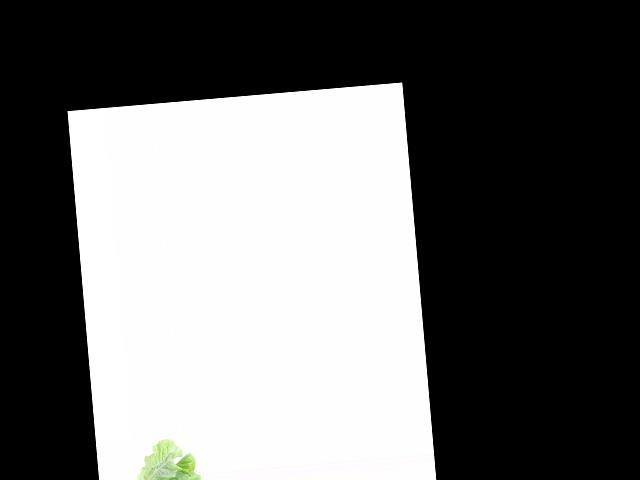lettuce: (136, 437, 203, 480)
